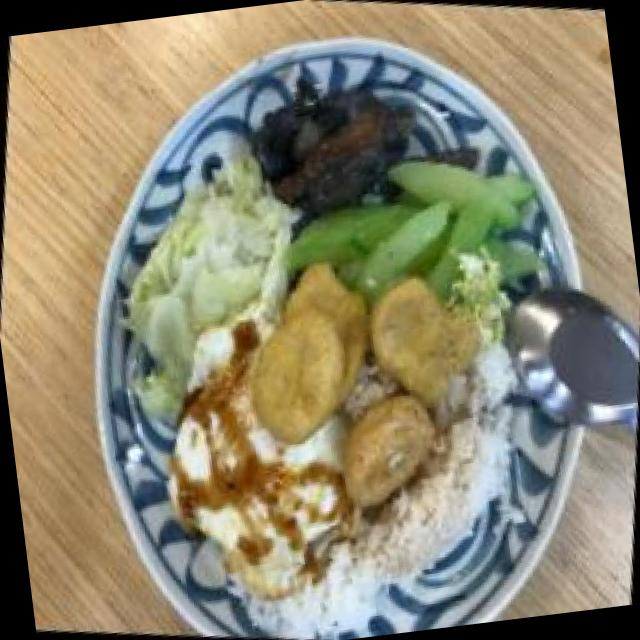chicken_nuggets: (220, 230, 514, 534)
chinese_cabbage: (142, 174, 298, 318)
fried_eggs: (138, 354, 386, 624)
rice: (414, 349, 540, 550), (341, 500, 442, 606)
